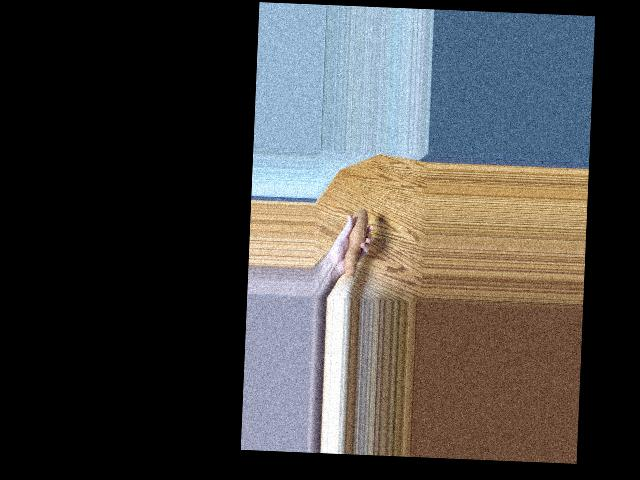sweet_potato: (337, 206, 369, 285)
